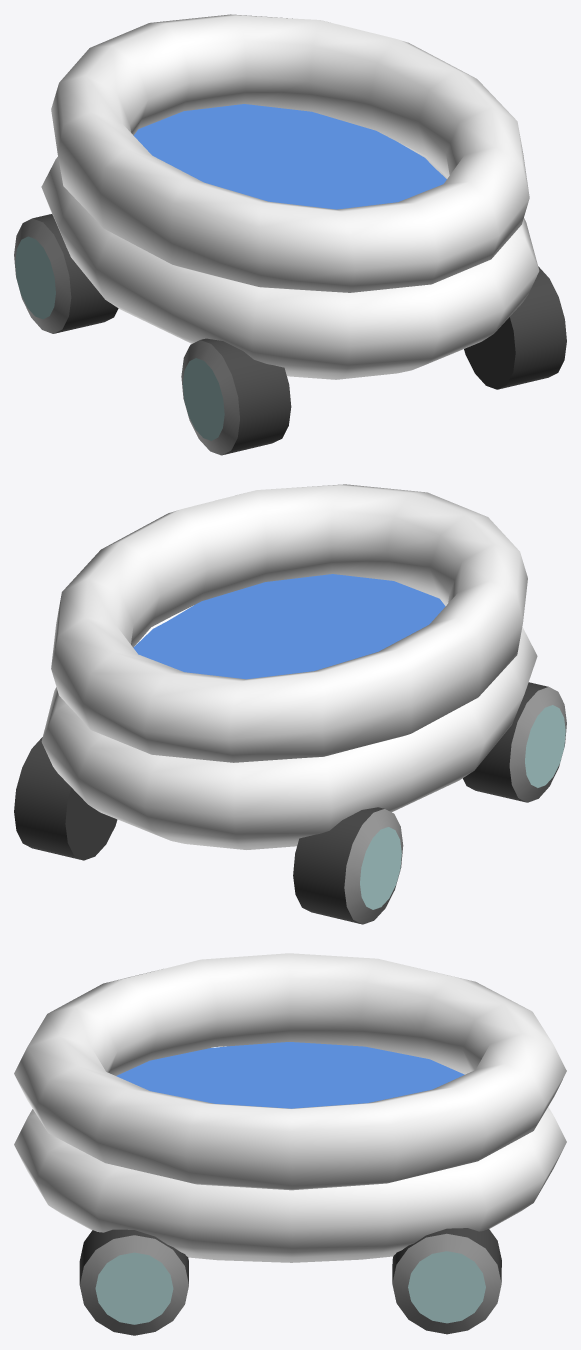
Rendered from Cart_7.fbx.
3 renders of one model, top to bottom at view 1: azimuth 30°, elevation 25°; view 2: azimuth 150°, elevation 25°; view 3: azimuth 270°, elevation 25°, orthographic. The views are drawn at different scales.
Visible parts, largest first — view 1: Torus; view 2: Torus; view 3: Torus.
Part boxes in pixels (<box>): Torus: <box>14,14,566,455</box>; Torus: <box>14,484,566,924</box>; Torus: <box>14,953,566,1335</box>.
Size of the model in its own units: 220 by 133 by 288.
